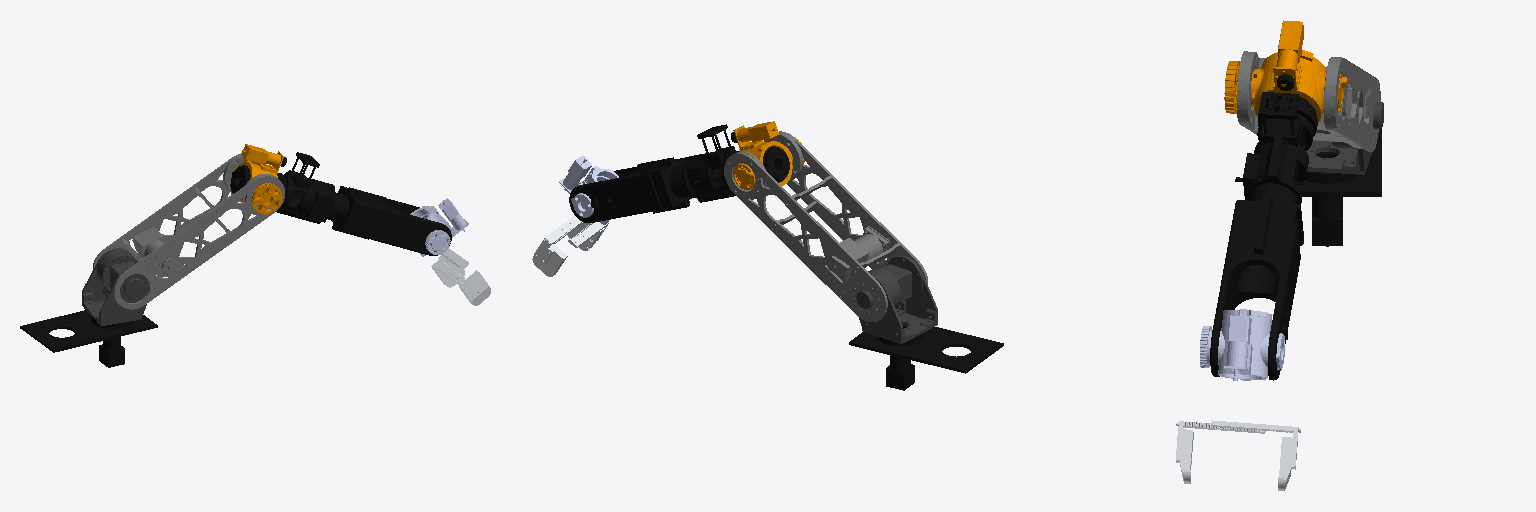
robot.urdf — dev_arm:
<?xml version="1.0" encoding="utf-8"?>
<!-- This URDF was automatically created by SolidWorks to URDF Exporter! Originally created by [author] ([email redacted]) 
     Commit Version: 1.6.0-4-g7f85cfe  Build Version: 1.6.7995.38578
     For more information, please see http://wiki.ros.org/sw_urdf_exporter -->
<robot
  name="dev_arm">
  <link
    name="link_0">
    <!-- <inertial>
      <origin
        xyz="-0.75120510490016 -0.355484104743571 0.618102827199024"
        rpy="0 0 0" />
      <mass
        value="0.4817433887173" />
      <inertia
        ixx="0.00155445019167321"
        ixy="-0.00029099824007685"
        ixz="-2.6763455971382E-05"
        iyy="0.0011477531623159"
        iyz="-0.000592201056189933"
        izz="0.00160357951968222" />
    </inertial> -->
    <visual>
      <origin
        xyz="0 0 0"
        rpy="0 0 0" />
      <geometry>
        <mesh
          filename="package://dev_arm_description/meshes/link_0.STL" />
      </geometry>
      <material
        name="">
        <color
          rgba="0.1 0.1 0.1 1" />
      </material>
    </visual>
    <collision>
      <origin
        xyz="0 0 0"
        rpy="0 0 0" />
      <geometry>
        <mesh
          filename="package://dev_arm_description/meshes/link_0.STL" />
      </geometry>
    </collision>
  </link>
  <link
    name="link_1">
    <inertial>
      <origin
        xyz="-0.00592188484098011 0.0497337751763232 0.0151078448271851"
        rpy="0 0 0" />
      <mass
        value="0.737418061435459" />
      <inertia
        ixx="0.000956187811589184"
        ixy="-7.30868092917769E-07"
        ixz="-2.15641775570035E-07"
        iyy="0.000840696198508676"
        iyz="-8.78546697159536E-05"
        izz="0.000683614957200741" />
    </inertial>
    <visual>
      <origin
        xyz="0 0 0"
        rpy="0 0 0" />
      <geometry>
        <mesh
          filename="package://dev_arm_description/meshes/link_1.STL" />
      </geometry>
      <material
        name="">
        <color
          rgba="0.3 0.3 0.3 1" />
      </material>
    </visual>
    <collision>
      <origin
        xyz="0 0 0"
        rpy="0 0 0" />
      <geometry>
        <mesh
          filename="package://dev_arm_description/meshes/link_1.STL" />
      </geometry>
    </collision>
  </link>
  <joint
    name="joint_1"
    type="revolute">
    <origin
      xyz="0 0 0.12465"
      rpy="1.5708 0 1.4205" />
    <parent
      link="link_0" />
    <child
      link="link_1" />
    <axis
      xyz="0 1 0" />
    <limit
      lower="-1.5"
      upper="1.5"
      effort="1.5"
      velocity="1.5" />
  </joint>
  <link
    name="link_2">
    <inertial>
      <origin
        xyz="-0.0125551041164427 0.162333307519453 -0.00113689853698418"
        rpy="0 0 0" />
      <mass
        value="1.1795040495345" />
      <inertia
        ixx="0.0114021403656591"
        ixy="4.91835295849996E-06"
        ixz="9.60387948633441E-07"
        iyy="0.00146839098604676"
        iyz="7.53762054156451E-06"
        izz="0.011076242151304" />
    </inertial>
    <visual>
      <origin
        xyz="0 0 0"
        rpy="0 0 0" />
      <geometry>
        <mesh
          filename="package://dev_arm_description/meshes/link_2.STL" />
      </geometry>
      <material
        name="">
        <color
          rgba="0.5 0.5 0.5 1" />
      </material>
    </visual>
    <collision>
      <origin
        xyz="0 0 0"
        rpy="0 0 0" />
      <geometry>
        <mesh
          filename="package://dev_arm_description/meshes/link_2.STL" />
      </geometry>
    </collision>
  </link>
  <joint
    name="joint_2"
    type="revolute">
    <origin
      xyz="0 0.08135 0.030252"
      rpy="1.0581 0 0" />
    <parent
      link="link_1" />
    <child
      link="link_2" />
    <axis
      xyz="1 0 0" />
    <limit
      lower="-1.9"
      upper="1"
      effort="1.5"
      velocity="1.5" />
  </joint>
  <link
    name="link_3">
    <inertial>
      <origin
        xyz="-0.0127385611944387 0.00592816139817404 0.00294922331579783"
        rpy="0 0 0" />
      <mass
        value="0.336367887901212" />
      <inertia
        ixx="0.000445713692687987"
        ixy="-2.92307769476942E-05"
        ixz="-2.75743220153081E-07"
        iyy="0.000413955901160469"
        iyz="-3.15427872765313E-07"
        izz="0.000183819323414228" />
    </inertial>
    <visual>
      <origin
        xyz="0 0 0"
        rpy="0 0 0" />
      <geometry>
        <mesh
          filename="package://dev_arm_description/meshes/link_3.STL" />
      </geometry>
      <material
        name="">
        <color
          rgba="0.9 0.55882352941 0 1" />
      </material>
    </visual>
    <collision>
      <origin
        xyz="0 0 0"
        rpy="0 0 0" />
      <geometry>
        <mesh
          filename="package://dev_arm_description/meshes/link_3.STL" />
      </geometry>
    </collision>
  </link>
  <joint
    name="joint_3"
    type="revolute">
    <origin
      xyz="0 0.36 0"
      rpy="1.5708 -1.1559 -1.5708" />
    <parent
      link="link_2" />
    <child
      link="link_3" />
    <axis
      xyz="0 0 1" />
    <limit
      lower="-1.5"
      upper="1.5"
      effort="1.5"
      velocity="5.0" />
  </joint>
  <link
    name="link_4">
    <inertial>
      <origin
        xyz="0.00166296026114598 0.218106492725881 -0.00116203993278863"
        rpy="0 0 0" />
      <mass
        value="1.36761528996947" />
      <inertia
        ixx="0.00641148072698608"
        ixy="1.83066051979753E-05"
        ixz="-1.10257427220716E-06"
        iyy="0.00122289884254461"
        iyz="9.92574822825847E-07"
        izz="0.0069873823992583" />
    </inertial>
    <visual>
      <origin
        xyz="0 0 0"
        rpy="0 0 0" />
      <geometry>
        <mesh
          filename="package://dev_arm_description/meshes/link_4.STL" />
      </geometry>
      <material
        name="">
        <color
          rgba="0.1 0.1 0.1 1" />
      </material>
    </visual>
    <collision>
      <origin
        xyz="0 0 0"
        rpy="0 0 0" />
      <geometry>
        <mesh
          filename="package://dev_arm_description/meshes/link_4.STL" />
      </geometry>
    </collision>
  </link>
  <joint
    name="joint_4"
    type="revolute">
    <origin
      xyz="0 0 -0.00268"
      rpy="-3.1416 -0.0026575 2.618" />
    <parent
      link="link_3" />
    <child
      link="link_4" />
    <axis
      xyz="0 1 0" />
    <limit
      lower="-1.5"
      upper="1.5"
      effort="1.5"
      velocity="1.5" />
  </joint>
  <link
    name="link_5">
    <inertial>
      <origin
        xyz="0.00247756032029234 0.0144792175385886 -0.00303407921683196"
        rpy="0 0 0" />
      <mass
        value="0.266164660581102" />
      <inertia
        ixx="0.000140805739440821"
        ixy="6.3389211890881E-06"
        ixz="-5.45477939486458E-07"
        iyy="0.000157270337306261"
        iyz="-1.05768526795131E-07"
        izz="0.000231895437914874" />
    </inertial>
    <visual>
      <origin
        xyz="0 0 0"
        rpy="0 0 0" />
      <geometry>
        <mesh
          filename="package://dev_arm_description/meshes/link_5.STL" />
      </geometry>
      <material
        name="">
        <color
          rgba="0.792156862745098 0.819607843137255 0.933333333333333 1" />
      </material>
    </visual>
    <collision>
      <origin
        xyz="0 0 0"
        rpy="0 0 0" />
      <geometry>
        <mesh
          filename="package://dev_arm_description/meshes/link_5.STL" />
      </geometry>
    </collision>
  </link>
  <joint
    name="joint_5"
    type="revolute">
    <origin
      xyz="0 0.46645 0"
      rpy="0 0 -0.98314" />
    <parent
      link="link_4" />
    <child
      link="link_5" />
    <axis
      xyz="0 0 1" />
    <limit
      lower="-2"
      upper="1.05"
      effort="1.5"
      velocity="1.5" />
  </joint>
  <link
    name="link_6">
    <inertial>
      <origin
        xyz="0.000496988885798855 0.000369268064153938 0.0805664772847964"
        rpy="0 0 0" />
      <mass
        value="0.227443456027437" />
      <inertia
        ixx="0.000204998883005082"
        ixy="9.44014732720639E-07"
        ixz="2.79960652479252E-07"
        iyy="0.000192500325400873"
        iyz="9.67404555176741E-07"
        izz="0.000155221932612525" />
    </inertial>
    <visual>
      <origin
        xyz="0 0 0"
        rpy="0 0 0" />
      <geometry>
        <mesh
          filename="package://dev_arm_description/meshes/link_6.STL" />
      </geometry>
      <material
        name="">
        <color
          rgba="0.7 0.7 0.7 1" />
      </material>
    </visual>
    <collision>
      <origin
        xyz="0 0 0"
        rpy="0 0 0" />
      <geometry>
        <mesh
          filename="package://dev_arm_description/meshes/link_6.STL" />
      </geometry>
    </collision>
  </link>
  <joint
    name="joint_6"
    type="revolute">
    <origin
      xyz="0.02374 0 0"
      rpy="1.5708 -1.3798 -1.5708" />
    <parent
      link="link_5" />
    <child
      link="link_6" />
    <axis
      xyz="0 0 1" />
    <limit
      lower="-10"
      upper="10"
      effort="1.5"
      velocity="2.5" />
  </joint>
  <link name="link_tt">
  </link>
  <joint 
    name="joint_tt"
    type="fixed">
    <origin
      xyz="0 0 0.2"
      rpy="-1.5708 3.14159 0" />
    <parent
      link="link_6" />
    <child
      link="link_tt" />
  </joint>
  <joint
    name="joint_ee"
    type="fixed">
    <!--   <origin
      xyz="-0.073337 -0.033291 0.14226"
      rpy="-3.1416 0 1.6469" /> -->
    <origin
      xyz="0.0 0.0145 0.078"
      rpy="0 -1.5707963 0" /> 
    <parent
      link="link_6" />
    <child
      link="ee_base_link" />
    <!--   <axis
      xyz="0.55075 -0.063574 -0.83224" /> -->
    <axis
      xyz="0.55075 -0.063574 -0.83224" />
  </joint>
  <!-- <link
    name="link_ee">
    <inertial>
      <origin
        xyz="0.0276192450431113 0.0756553935925989 -0.0141746324340222"
        rpy="0 0 0" />
      <mass
        value="0.231445210703695" />
      <inertia
        ixx="0.000130773613084568"
        ixy="-3.20850426457177E-07"
        ixz="-1.15708906918202E-12"
        iyy="8.25332385710549E-05"
        iyz="5.41792091672912E-12"
        izz="0.000113568263194462" />
    </inertial>
    <visual>
      <origin
        xyz="0 0 0"
        rpy="0 0 0" />
      <geometry>
        <mesh
          filename="package://dev_arm_description/meshes/link_ee.STL" />
      </geometry>
      <material
        name="">
        <color
          rgba="1 1 1 1" />
      </material>
    </visual>
    <collision>
      <origin
        xyz="0 0 0"
        rpy="0 0 0" />
      <geometry>
        <mesh
          filename="package://dev_arm_description/meshes/link_ee.STL" />
      </geometry>
    </collision>
  </link> -->
   <link
    name="ee_base_link">
    <inertial>
      <origin
        xyz="0.0218566579379172 -0.0144999286498134 6.73971640718918E-08"
        rpy="0 0 0" />
      <mass
        value="0.110400636457142" />
      <inertia
        ixx="4.63170859050809E-05"
        ixy="3.78244243109775E-13"
        ixz="4.33410365799028E-09"
        iyy="3.92168360881483E-05"
        iyz="-8.80592456266423E-07"
        izz="5.02814560103691E-05" />
    </inertial>
    <visual>
      <origin
        xyz="0 0 0"
        rpy="0 0 0" />
      <geometry>
        <mesh
          filename="package://dev_arm_description/meshes/ee_base_link.STL" />
      </geometry>
      <material
        name="">
        <color
          rgba="0.898039215686275 0.917647058823529 0.929411764705882 1" />
      </material>
    </visual>
    <collision>
      <origin
        xyz="0 0 0"
        rpy="0 0 0" />
      <geometry>
        <mesh
          filename="package://dev_arm_description/meshes/ee_base_link.STL" />
      </geometry>
    </collision>
  </link>
  <link
    name="finger_left">
    <inertial>
      <origin
        xyz="0.507967720786327 -0.171735145200685 0.0217350506360809"
        rpy="0 0 0" />
      <mass
        value="0.115999619262241" />
      <inertia
        ixx="5.74339449040048E-05"
        ixy="-4.04738461398723E-06"
        ixz="4.10672751622253E-06"
        iyy="6.33820089311507E-05"
        iyz="1.79921263203039E-06"
        izz="4.26375910378819E-05" />
    </inertial>
    <visual>
      <origin
        xyz="0 0 0"
        rpy="0 0 0" />
      <geometry>
        <mesh
          filename="package://dev_arm_description/meshes/finger_left.STL" />
      </geometry>
      <material
        name="">
        <color
          rgba="0.898039215686275 0.917647058823529 0.929411764705882 1" />
      </material>
    </visual>
    <collision>
      <origin
        xyz="0 0 0"
        rpy="0 0 0" />
      <geometry>
        <mesh
          filename="package://dev_arm_description/meshes/finger_left.STL" />
      </geometry>
    </collision>
  </link>
  <joint
    name="finger_right_joint"
    type="prismatic">
    <origin
      xyz="-0.25101 0.39517 0.094886"
      rpy="-0.087358 0.36707 -0.54398" />
    <parent
      link="ee_base_link" />
    <child
      link="finger_left" />
    <axis
      xyz="0.32112 0.14724 -0.93552" />
    <limit
      lower="-1"
      upper="1"
      effort="1"
      velocity="1" />
  </joint>
  <link
    name="finger_right">
    <inertial>
      <origin
        xyz="-0.426815876709959 -0.20249467129371 -0.196202137940408"
        rpy="0 0 0" />
      <mass
        value="0.115999628451242" />
      <inertia
        ixx="5.7509732907773E-05"
        ixy="5.01508905302232E-06"
        ixz="5.41680961368987E-06"
        iyy="6.2169132361382E-05"
        iyz="-2.15523236920139E-06"
        izz="4.37747033193312E-05" />
    </inertial>
    <visual>
      <origin
        xyz="0 0 0"
        rpy="0 0 0" />
      <geometry>
        <mesh
          filename="package://dev_arm_description/meshes/finger_right.STL" />
      </geometry>
      <material
        name="">
        <color
          rgba="0.898039215686275 0.917647058823529 0.929411764705882 1" />
      </material>
    </visual>
    <collision>
      <origin
        xyz="0 0 0"
        rpy="0 0 0" />
      <geometry>
        <mesh
          filename="package://dev_arm_description/meshes/finger_right.STL" />
      </geometry>
    </collision>
  </link>
  <joint
    name="finger_left_joint"
    type="prismatic">
    <origin
      xyz="-0.23241 0.37651 0.0074738"
      rpy="-3.0542 -0.36707 2.5976" />
    <parent
      link="ee_base_link" />
    <child
      link="finger_right" />
    <axis
      xyz="-0.32112 0.14724 0.93552" />
    <limit
      lower="-1"
      upper="1"
      effort="1"
      velocity="1" />
  </joint>
</robot>

--- What the picture shows (computed from the rendered views, not written in the file) ---
Views: 3 orthographic renders of the robot side by side, from view 1: azimuth 30°, elevation 25°; view 2: azimuth 150°, elevation 25°; view 3: azimuth 270°, elevation 25°.
Model dev_arm with 11 links and 10 joints (6 revolute, 2 prismatic, 2 fixed), rooted at link_0, posed all joints at 0.
Links seen in each view (by area): view 1: link_2, link_4, link_1, link_0, link_3, link_5, finger_right, finger_left; view 2: link_2, link_4, link_1, link_0, link_3, link_5, finger_left, finger_right; view 3: link_4, link_2, link_3, link_5, link_0, link_1, finger_left, finger_right.
Link boxes in pixels (left/top/right/bottom): link_2: left=93, top=154, right=284, bottom=309; link_4: left=230, top=152, right=451, bottom=255; link_1: left=82, top=248, right=148, bottom=325; link_0: left=20, top=310, right=157, bottom=367; link_3: left=231, top=144, right=283, bottom=214; link_5: left=410, top=198, right=468, bottom=256; finger_right: left=436, top=261, right=490, bottom=305; finger_left: left=431, top=248, right=468, bottom=287; link_2: left=724, top=131, right=927, bottom=321; link_4: left=569, top=124, right=789, bottom=222; link_1: left=856, top=255, right=937, bottom=343; link_0: left=849, top=325, right=1003, bottom=390; link_3: left=733, top=121, right=804, bottom=189; link_5: left=559, top=156, right=618, bottom=224; finger_left: left=532, top=215, right=583, bottom=276; finger_right: left=568, top=222, right=609, bottom=250; link_4: left=1210, top=74, right=1317, bottom=380; link_2: left=1237, top=51, right=1380, bottom=151; link_3: left=1224, top=20, right=1346, bottom=122; link_5: left=1200, top=309, right=1284, bottom=380; link_0: left=1299, top=129, right=1381, bottom=246; link_1: left=1306, top=102, right=1383, bottom=174; finger_left: left=1212, top=420, right=1300, bottom=490; finger_right: left=1176, top=421, right=1265, bottom=483.
Size in the robot's own frame: 1.08 by 0.2842 by 0.4906 metres.
8 mesh visuals loaded from 10 distinct referenced files (8 binary STL); not drawn: 2 (reference not matched to a file when rendering).